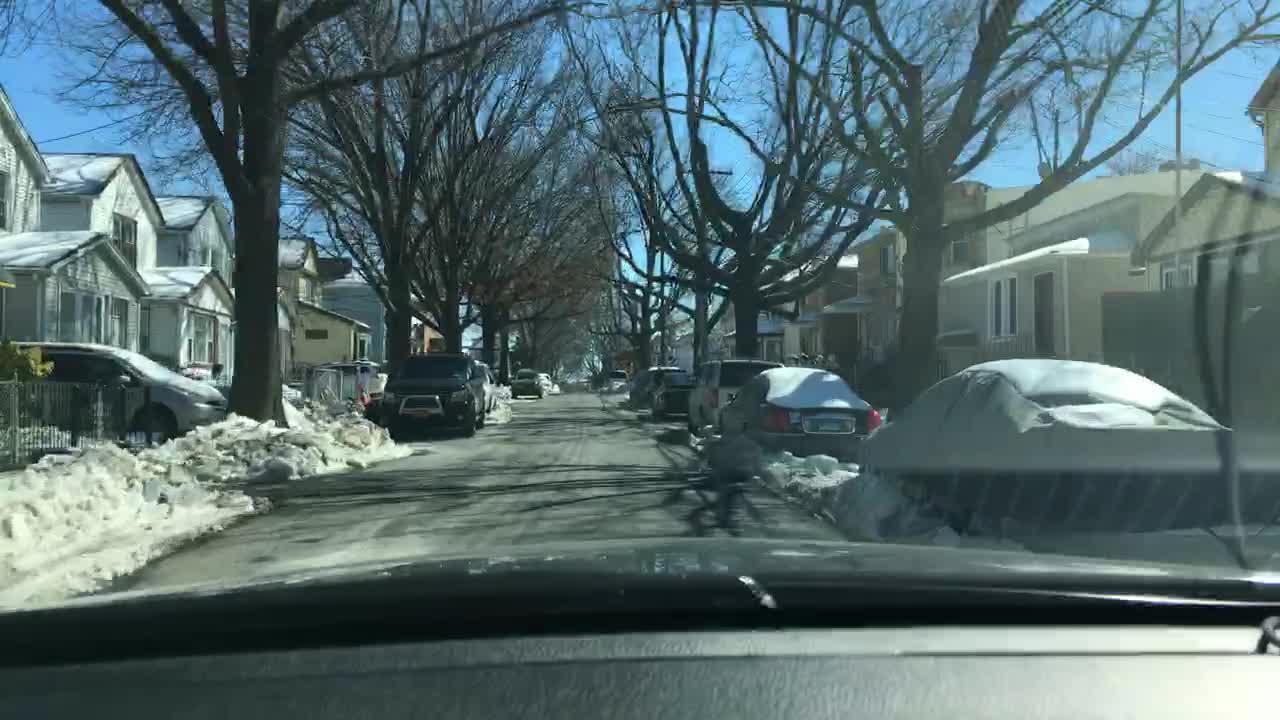car: (854, 358, 1235, 525), (10, 336, 228, 440), (714, 366, 879, 459), (376, 353, 482, 437), (687, 358, 781, 437), (323, 358, 387, 397), (653, 373, 697, 420), (629, 364, 678, 400), (472, 354, 499, 413), (538, 371, 557, 393), (607, 368, 627, 383)
